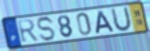0: (76, 12, 93, 38)
8: (57, 14, 74, 38)
A: (95, 10, 116, 35)
R: (16, 18, 40, 44)
S: (37, 15, 57, 42)
U: (111, 5, 133, 33)
